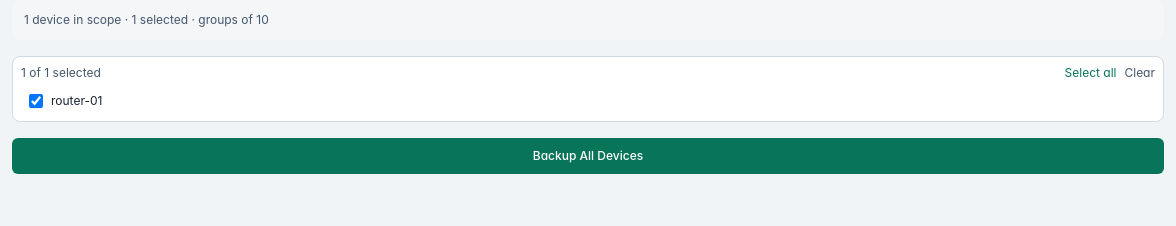
Test: BulkBackupPanel — uses persistent backend bulk runs › renders cancelled devices as stopped
The width and height of the screenshot is (1176, 226).
Step 1. Click the button "Backup All Devices" → (588, 156), box [12,138,1164,174]
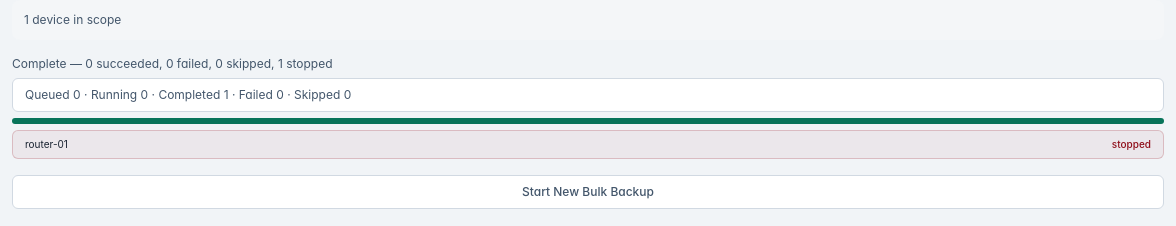
Check: the text "stopped" is shown, box [1112,137,1151,152]
Check: the text "Complete — 0 succeeded, 0 failed, 0 skipped, 1 stopped" is shown, box [12,56,332,72]
